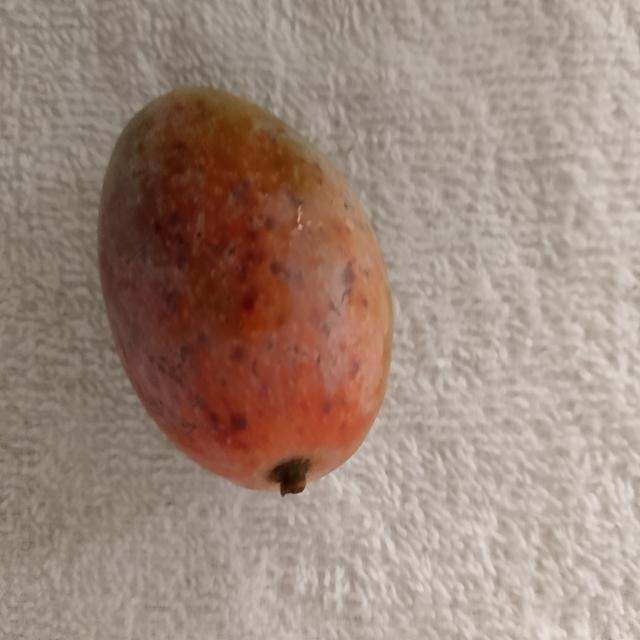mango: (97, 81, 397, 498)
